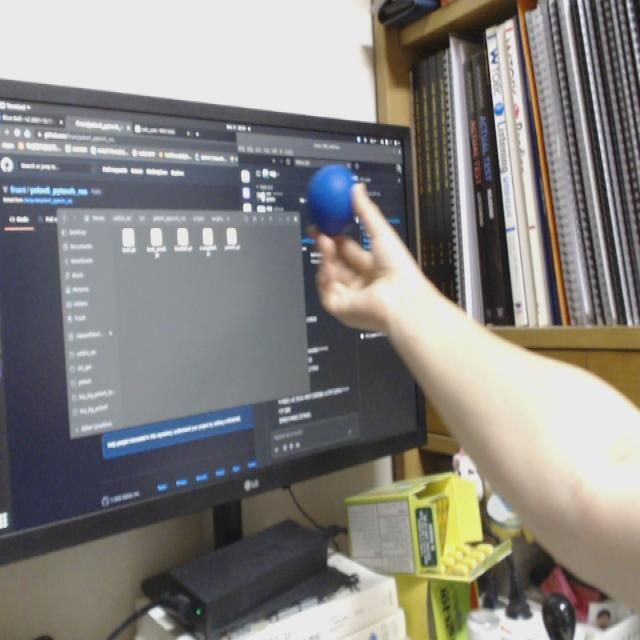golfball: (307, 162, 358, 240)
